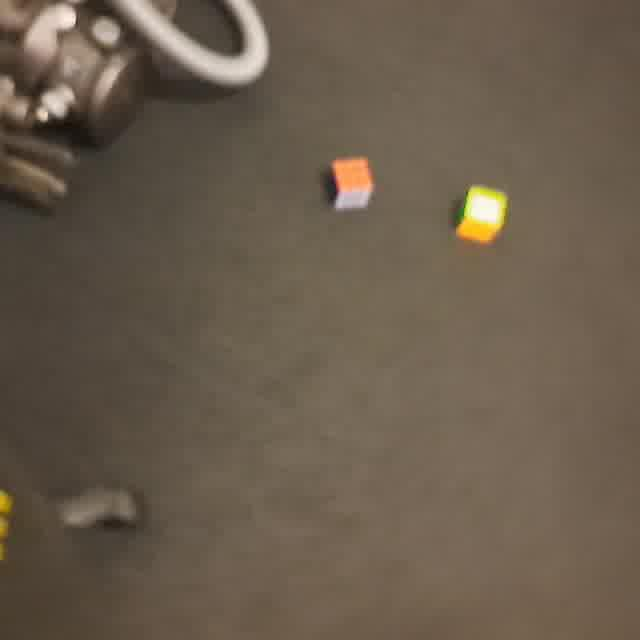rubix_cube: (452, 184, 509, 244), (325, 155, 375, 215)
